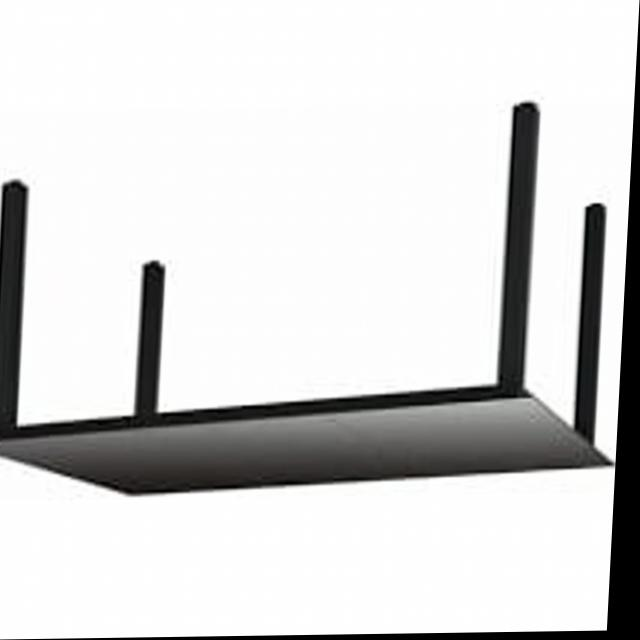Table: (0, 83, 636, 527)
